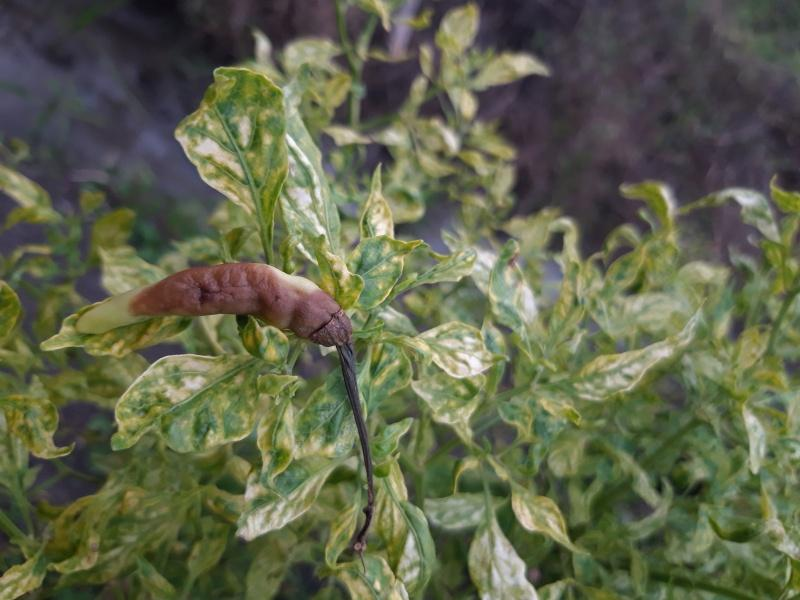lalat_buah: (74, 260, 358, 354)
